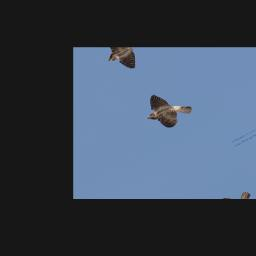Swallow: (135, 83, 197, 136)
